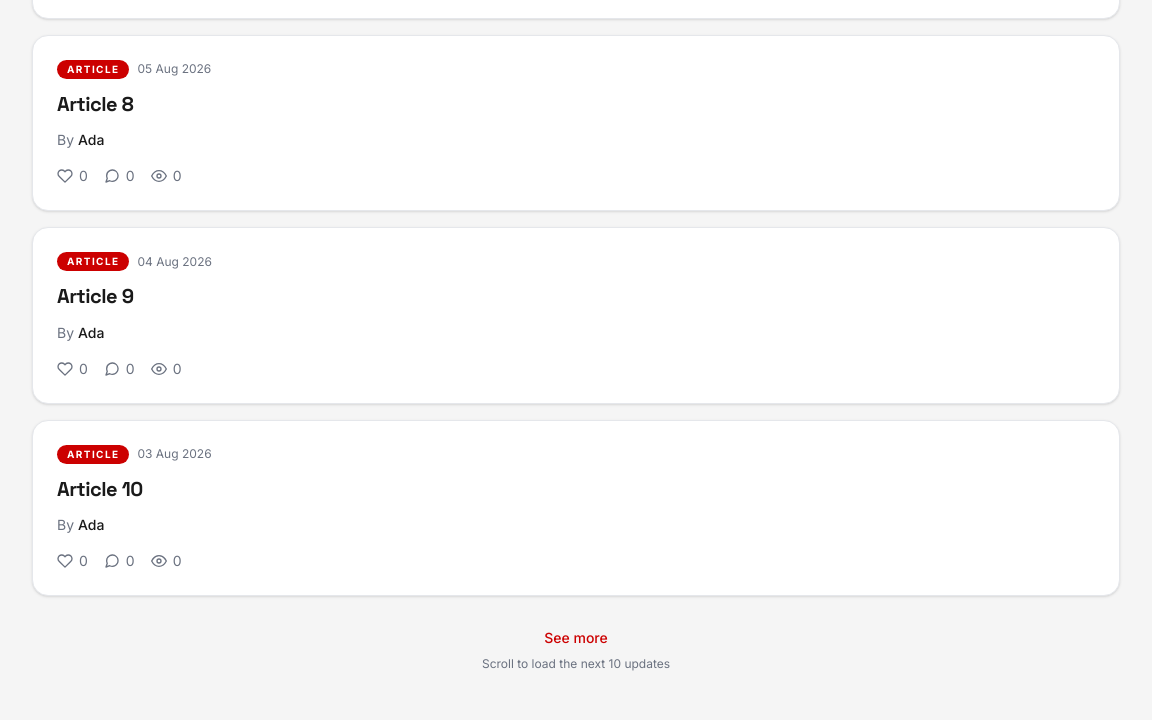
Test: HomepageFeed › shows the first 10 items and loads the next page from See more
(page scrolled)
Click the button with test id "see-more-button": {"x": 576, "y": 638} [544,628,608,648]
(page scrolled)
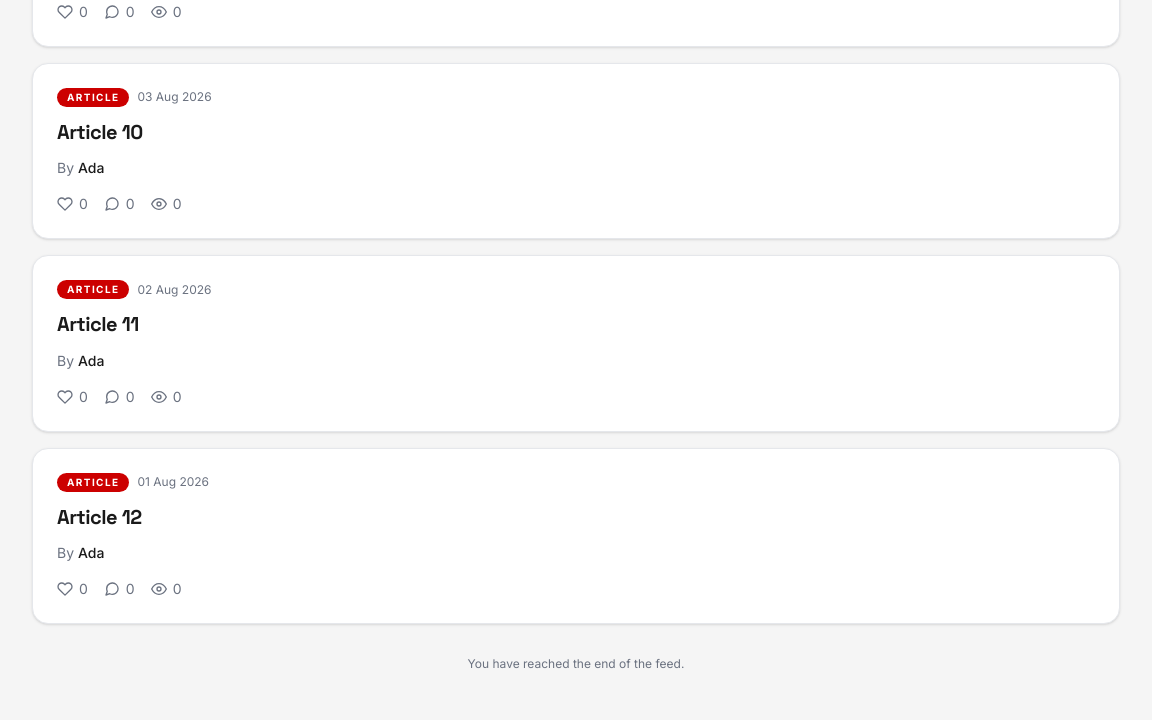
Expected: the link with test id "article-card-a11" is shown, [57,280,218,404]
Expected: the link with test id "article-card-a12" is shown, [57,472,218,597]
Expected: the button with test id "see-more-button" is gone
